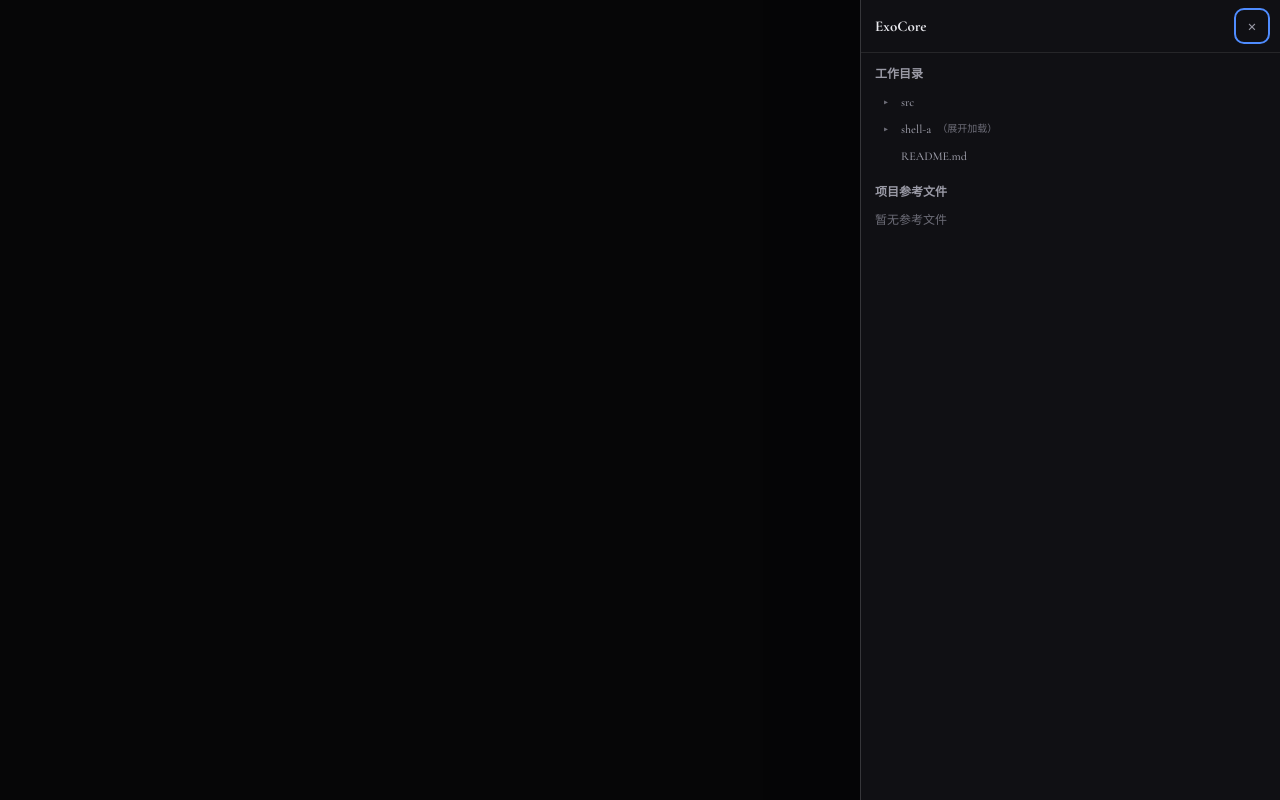
Test: P1D Project files drawer leaf › preserves deeper shell merges (level + sub-level compose by path)
Expected: the text "shell-a" is shown, [901,120,931,138]
Click the button "▸ shell-a （展开加载）".
click(916, 129)  # box [875,116,1266,142]
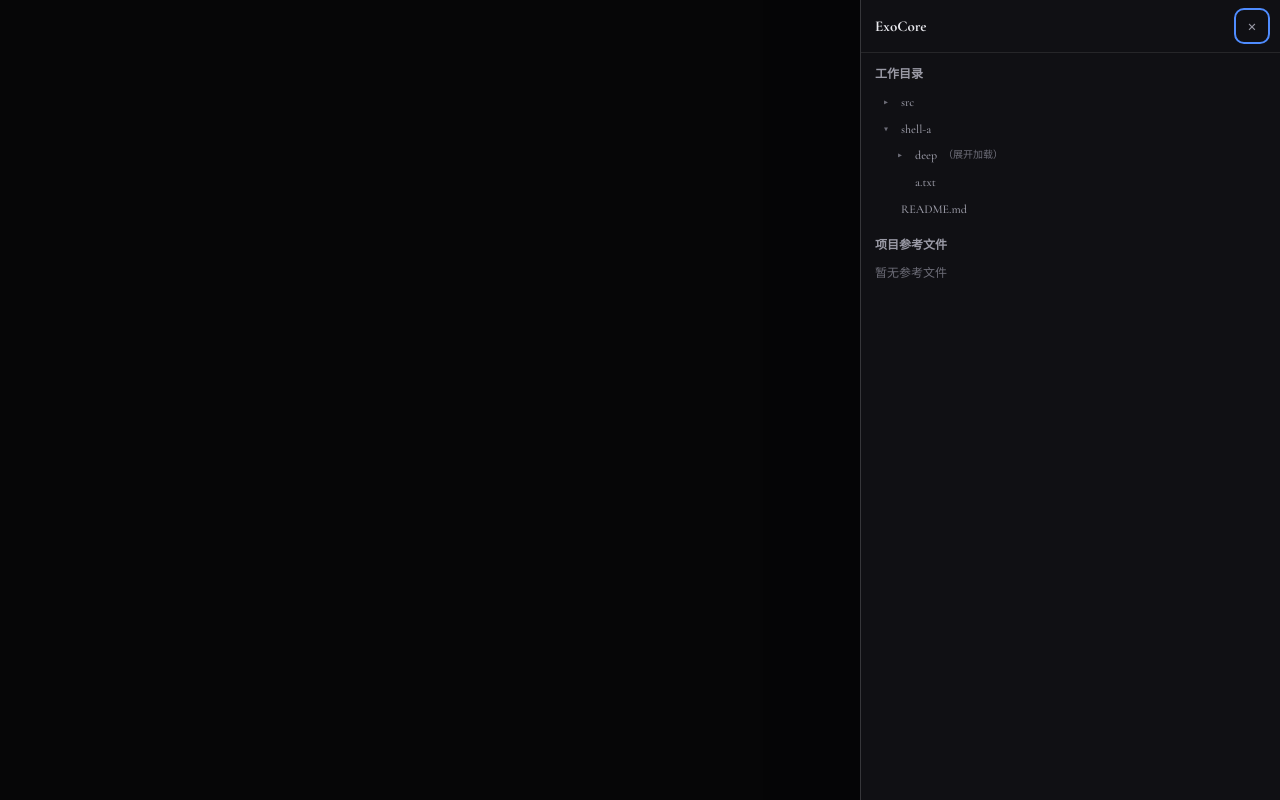
Now the text "deep" is shown, box [915,146,937,164]
Click the button "▸ deep （展开加载）".
click(973, 154)  # box [875,142,1266,168]
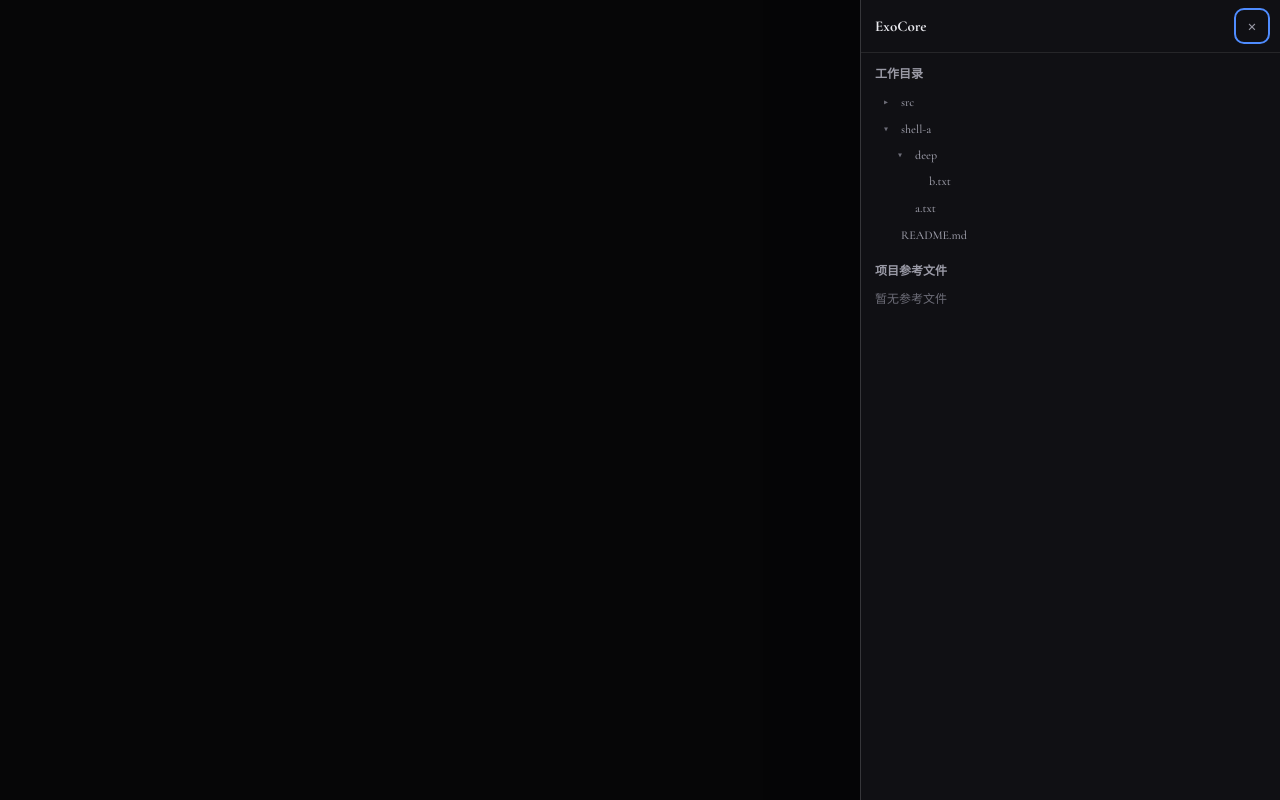
Now the text "b.txt" is shown, box [929,172,951,190]
